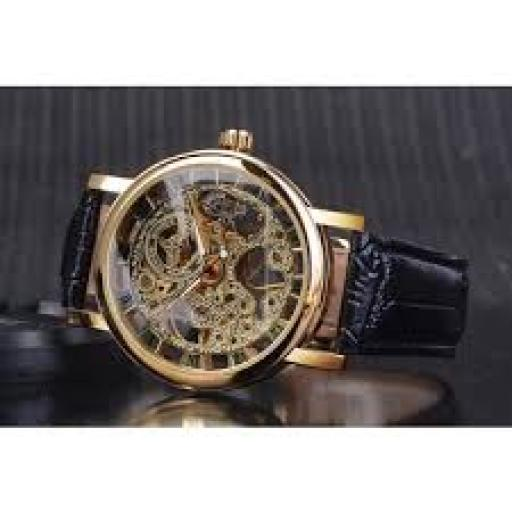KolSaati: (21, 124, 488, 410)
